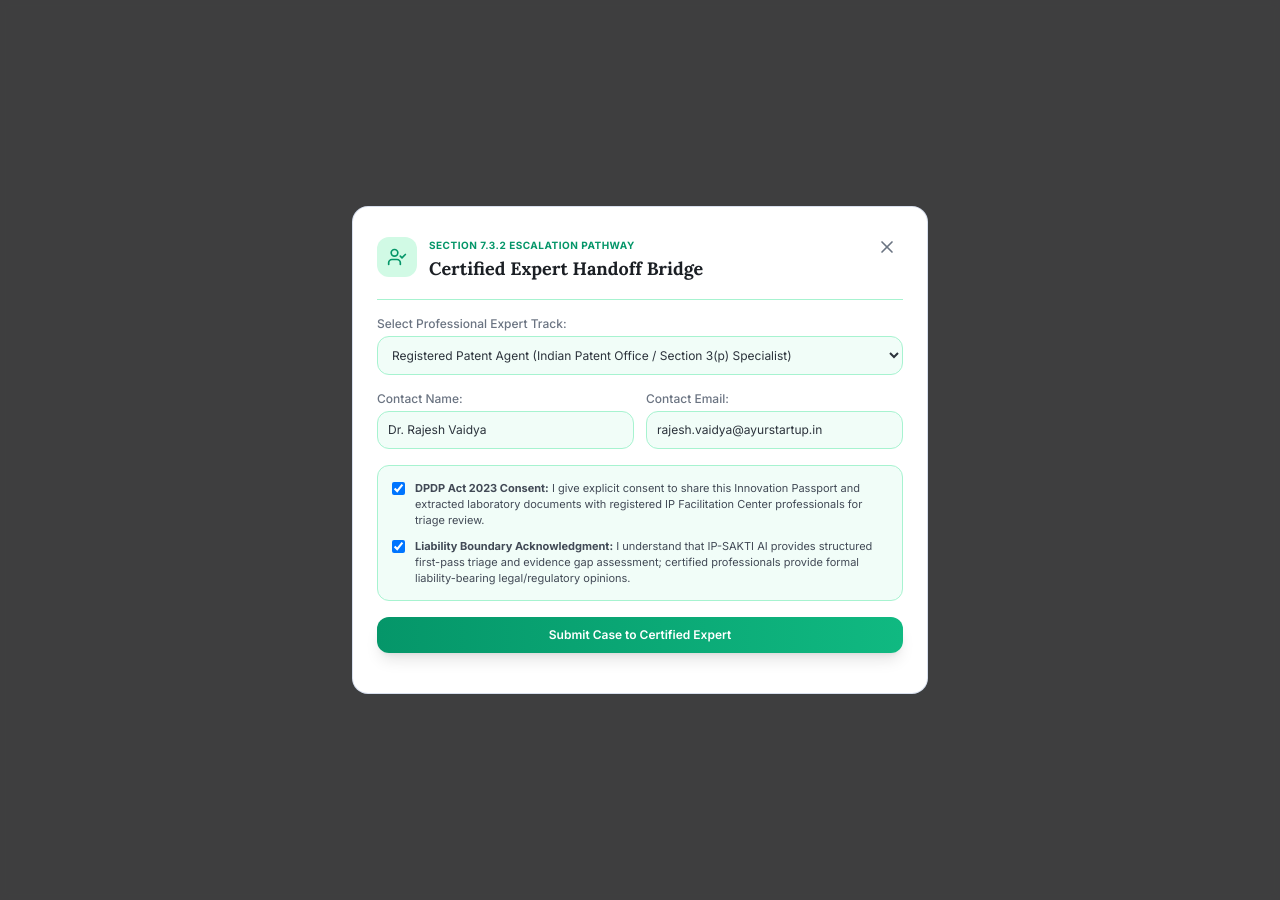
Test: ExpertHandoffModal › submit is disabled while DPDP consent is unchecked
Check: the button "Submit Case to Certified Expert" is enabled, box x1=377 y1=617 x2=903 y2=653
What coordinates should you click on to do the following:
click the 1st checkbox
I would click on:
 (398, 488)
Its box is x1=392 y1=482 x2=405 y2=495.
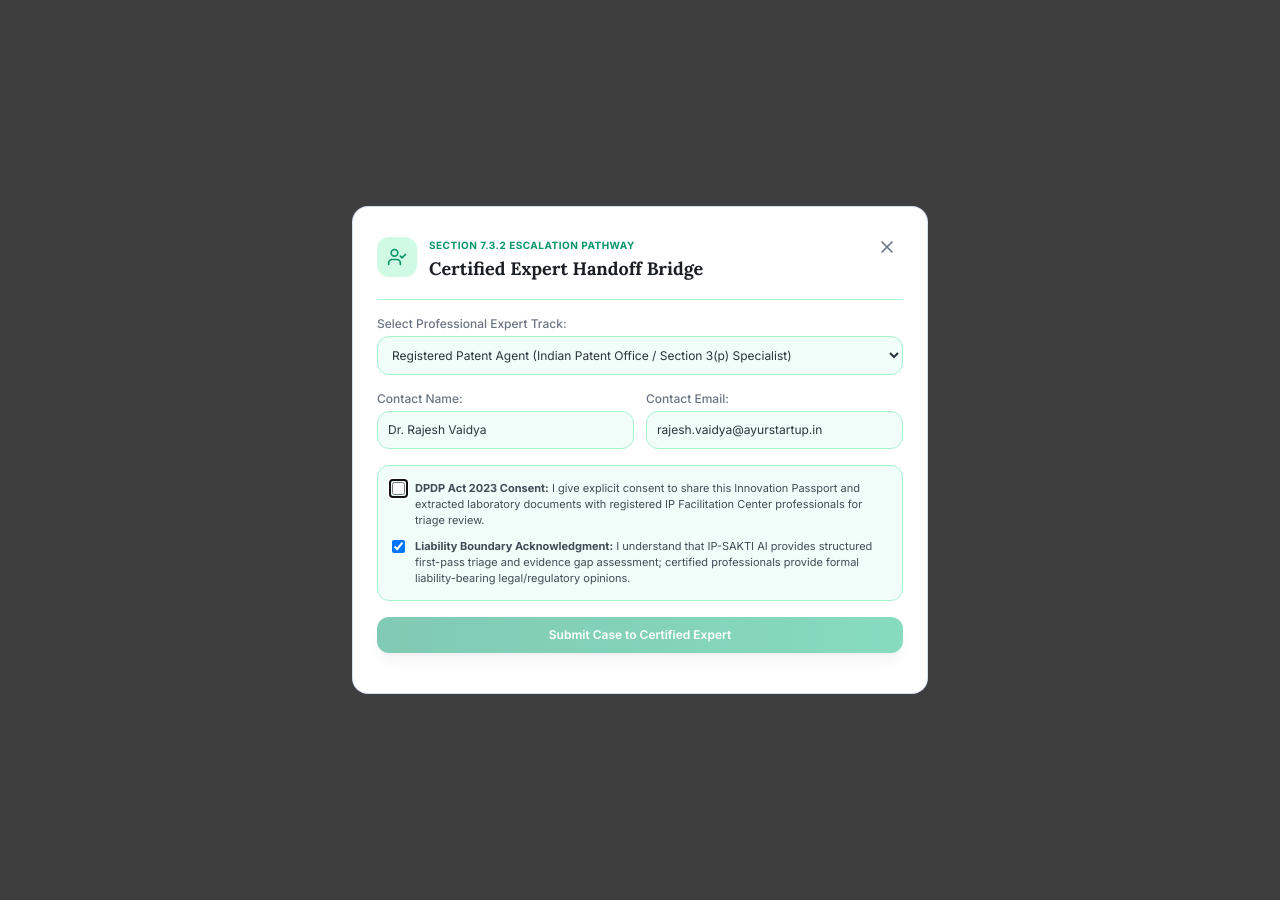
Check: the button "Submit Case to Certified Expert" is disabled, box x1=377 y1=617 x2=903 y2=653
What coordinates should you click on to do the following:
click the 1st checkbox
I would click on:
 (398, 488)
Its box is x1=392 y1=482 x2=405 y2=495.
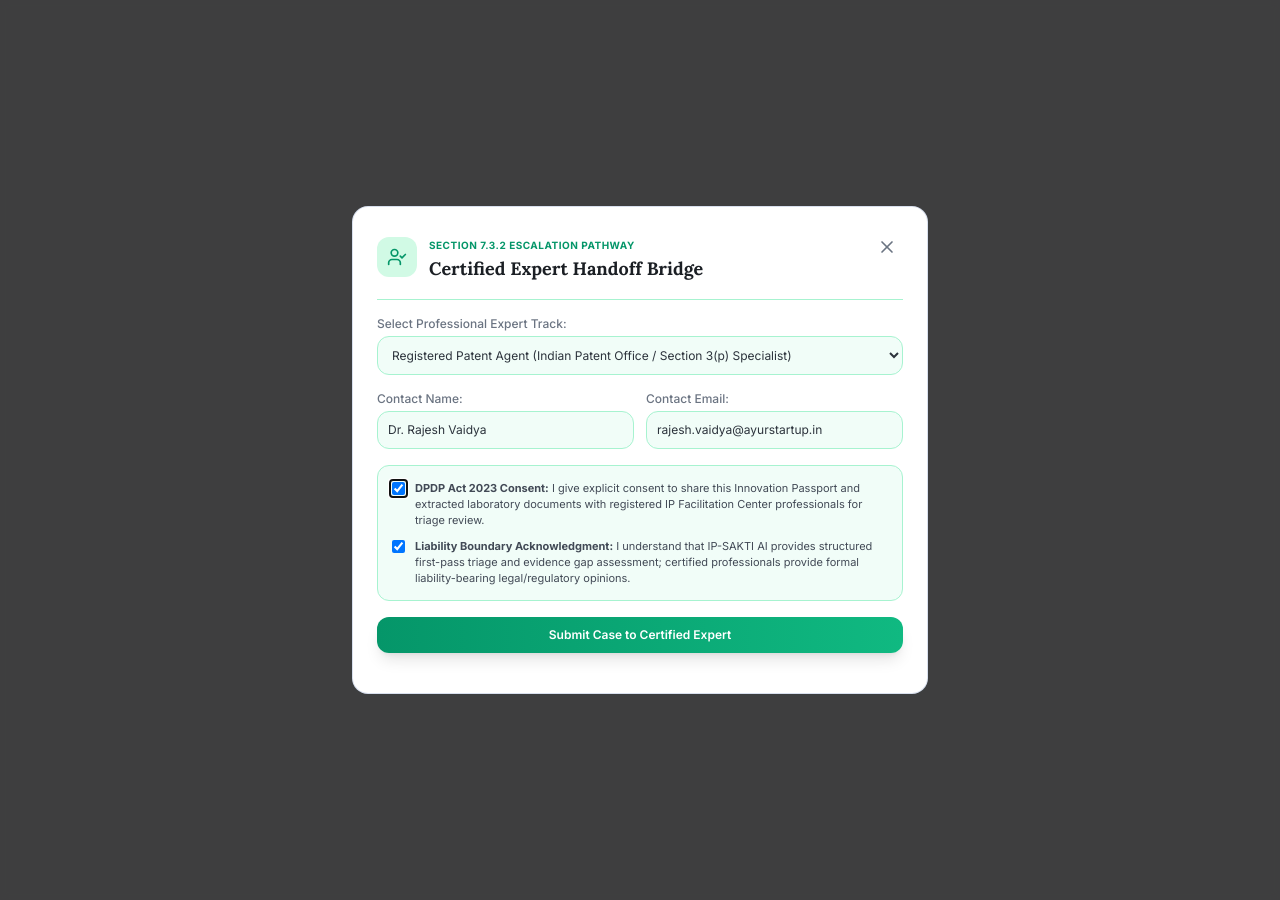
Check: the button "Submit Case to Certified Expert" is enabled, box x1=377 y1=617 x2=903 y2=653
